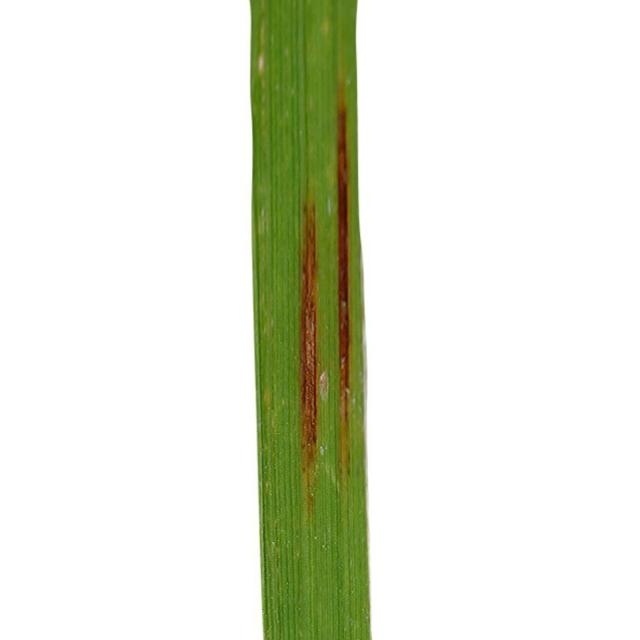Narrow brown: (189, 0, 402, 640)
